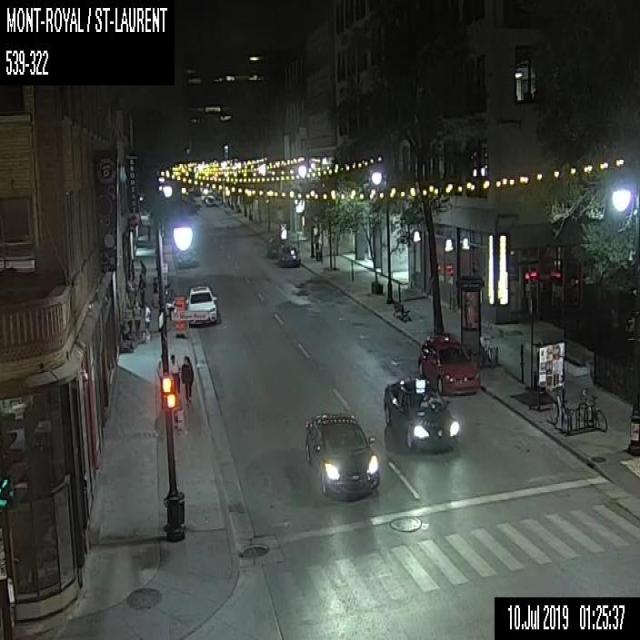construction: (174, 295, 185, 336)
pedestrian: (180, 355, 192, 403), (169, 350, 181, 394), (132, 300, 141, 337), (136, 272, 146, 305), (143, 301, 151, 337), (151, 276, 158, 308), (139, 258, 146, 279), (147, 223, 151, 241)
vehicle: (303, 411, 380, 500), (381, 374, 456, 450), (418, 334, 480, 395), (186, 282, 217, 326), (172, 245, 198, 268), (277, 242, 298, 268), (265, 236, 285, 256), (204, 193, 214, 204)
